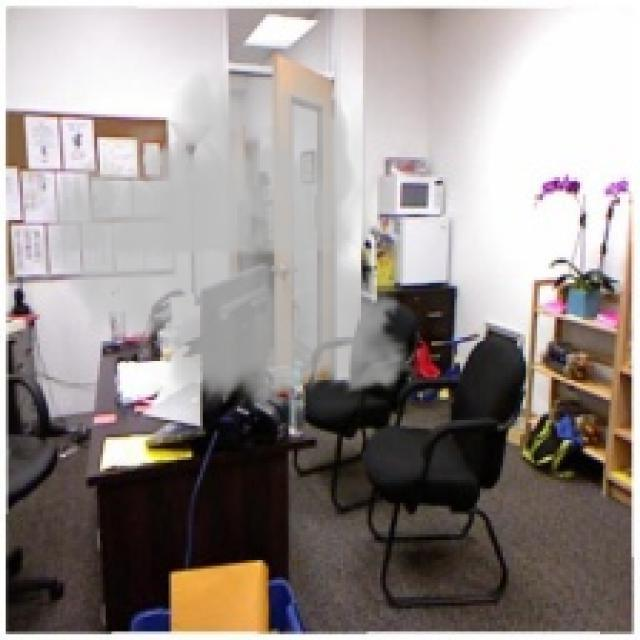Smoke: (20, 40, 429, 417)
